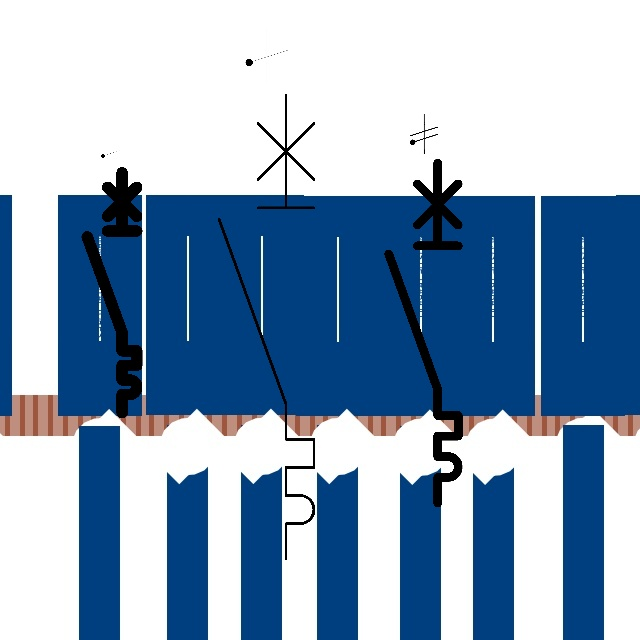interruptor_termomagnetico: (207, 83, 326, 571), (380, 154, 467, 512), (81, 166, 143, 419)
